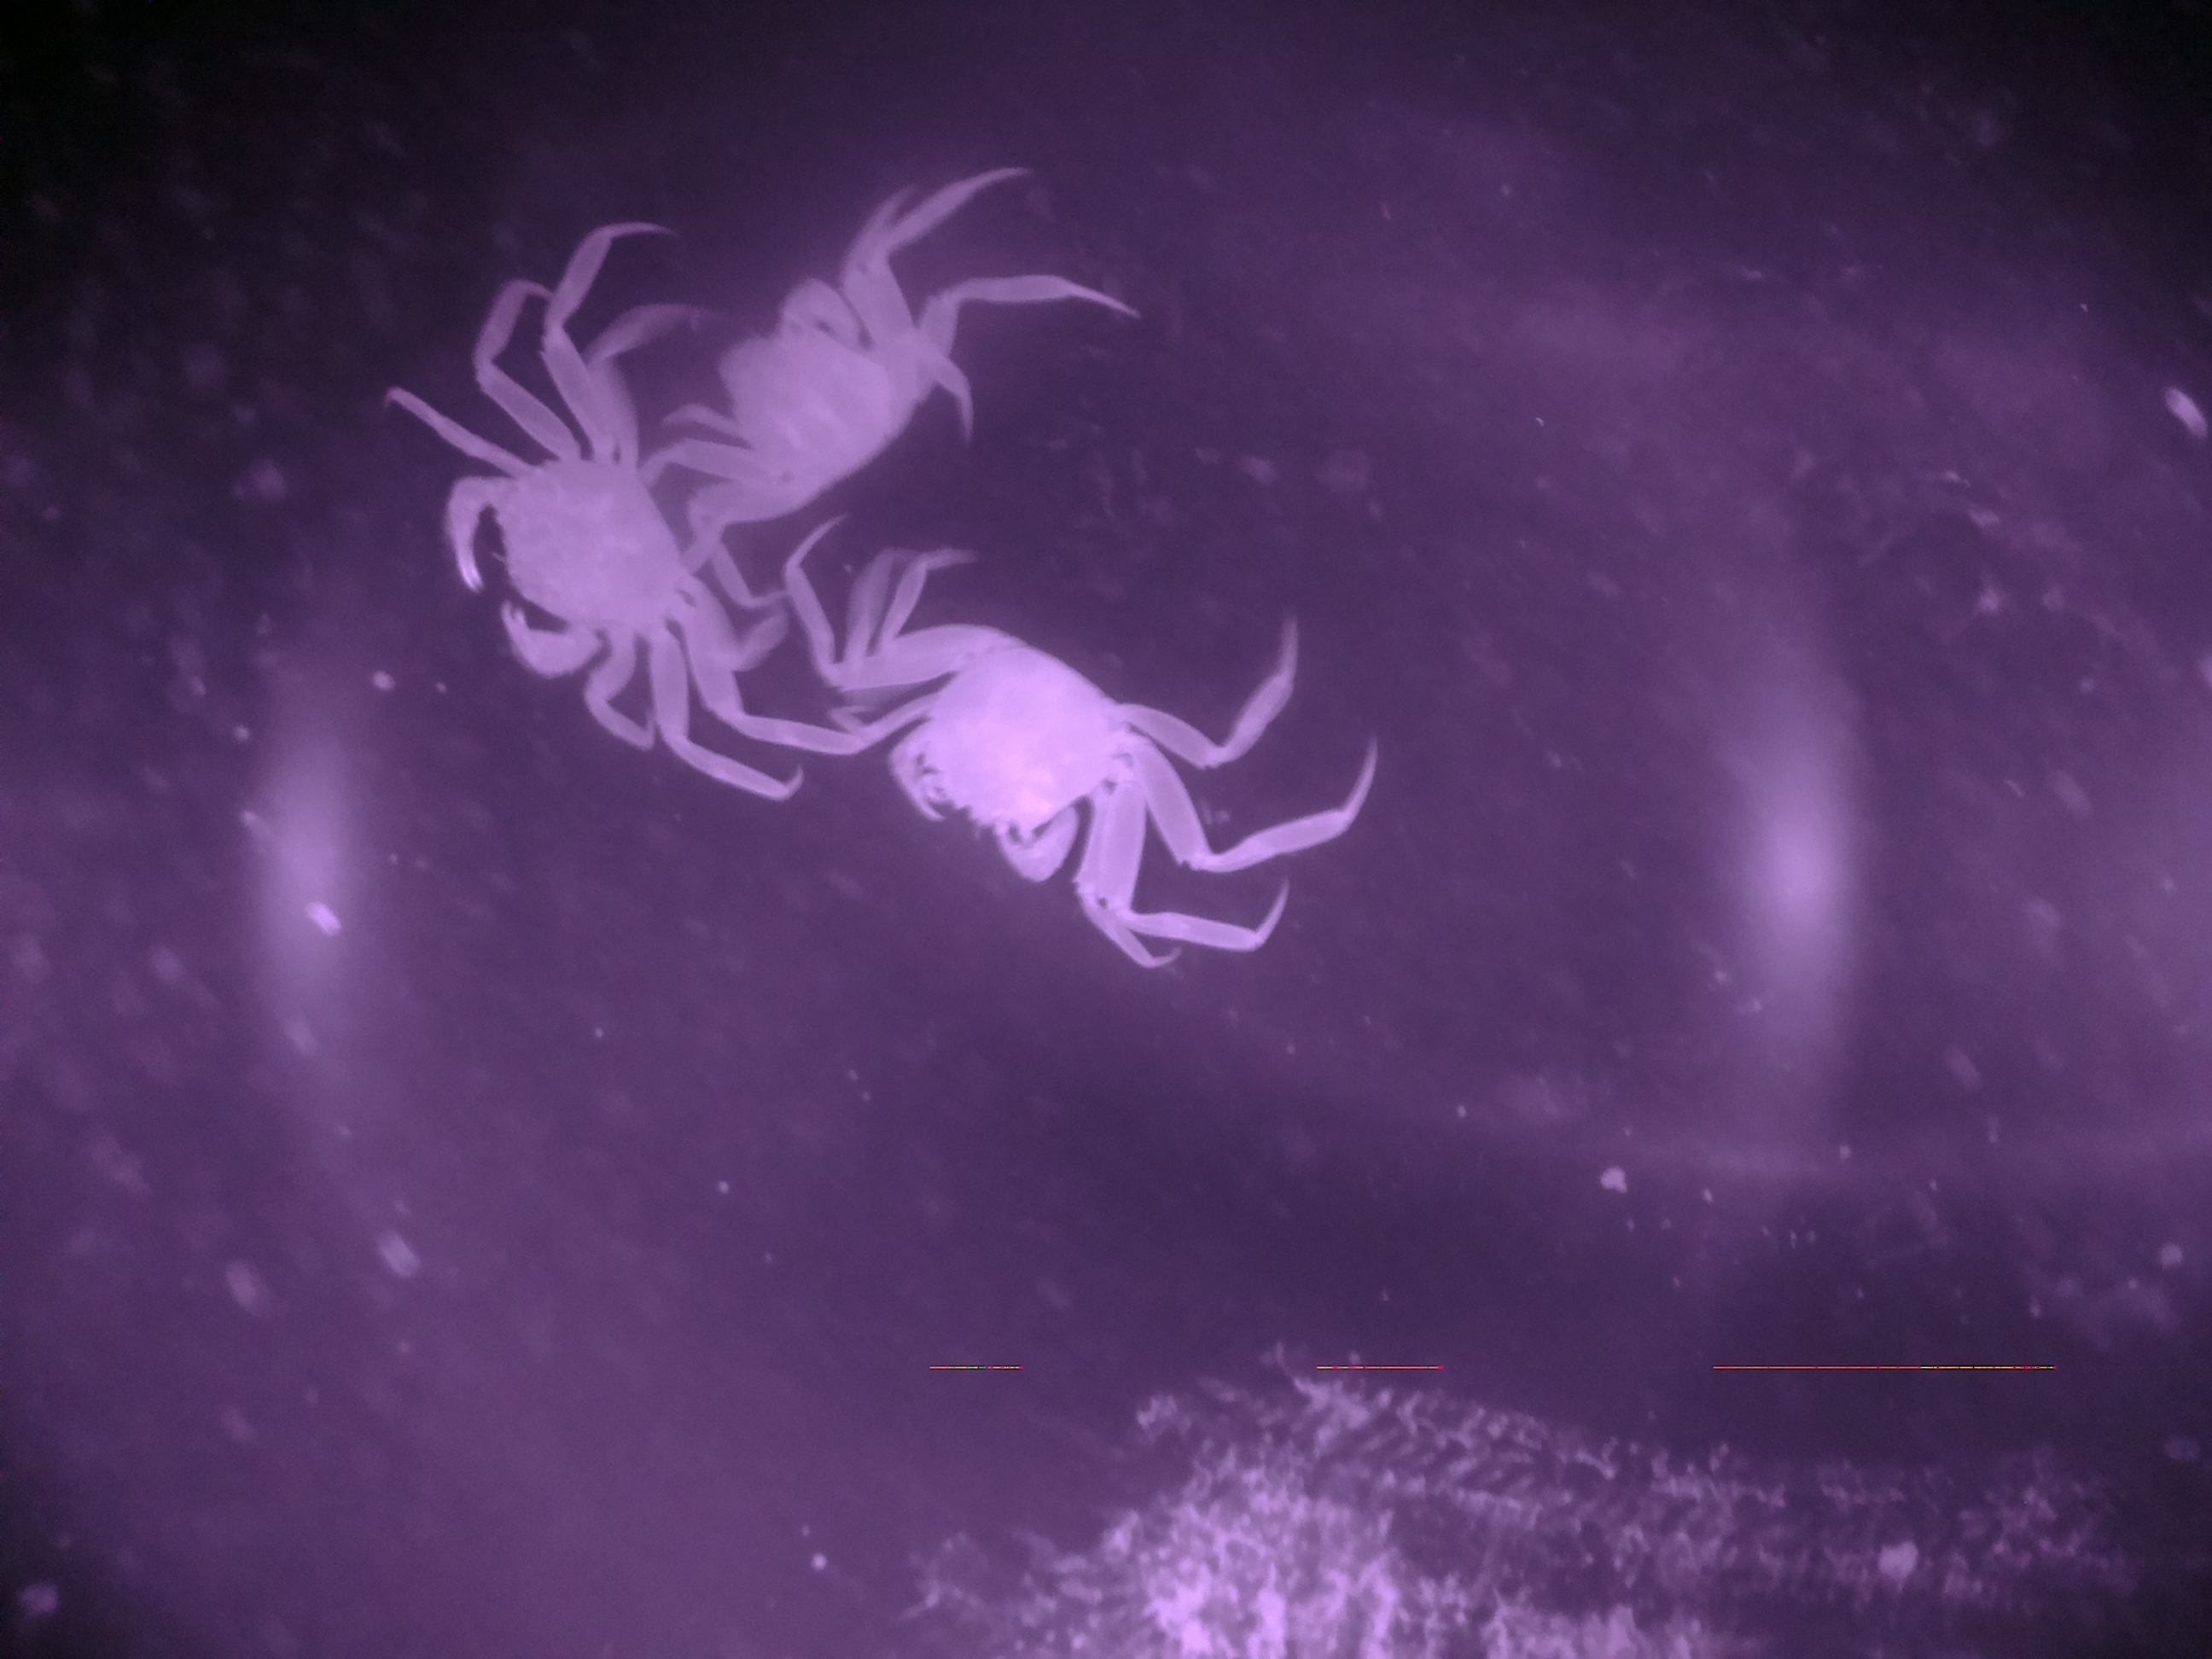Crab: (385, 429, 749, 742), (860, 584, 1179, 932), (643, 251, 984, 547)
